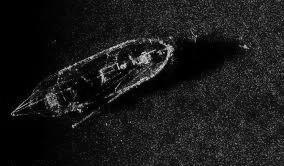ship: (9, 36, 176, 130)
